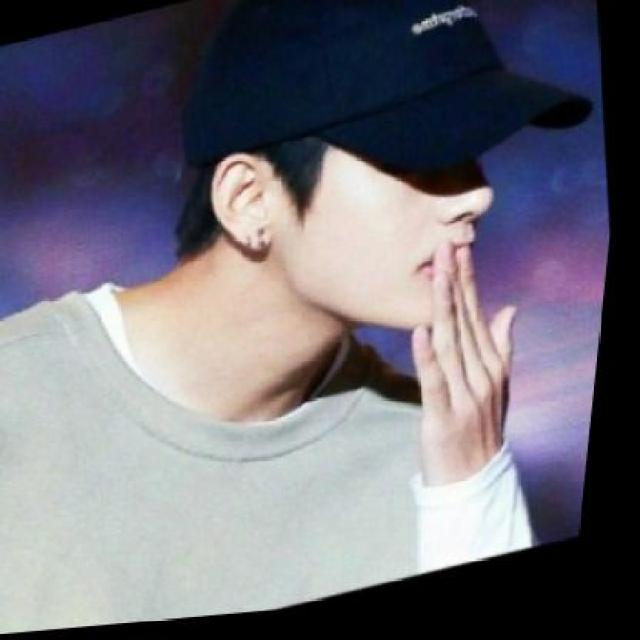hat: (155, 0, 614, 243)
